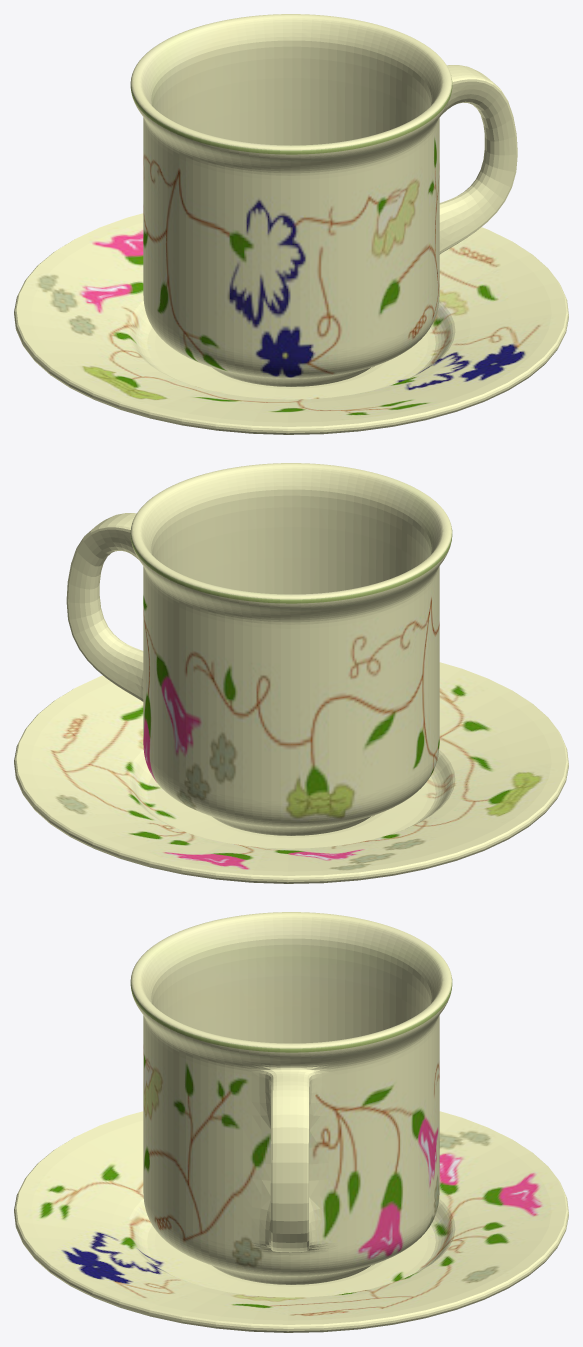
The model's file is sweethome3d-scopia-cup-111.glb.
3 views of the same model, one above another, from view 1: azimuth 30°, elevation 25°; view 2: azimuth 150°, elevation 25°; view 3: azimuth 270°, elevation 25° (orthographic).
Visible parts, largest first — view 1: cup_Plane, plate_Plane.001; view 2: cup_Plane, plate_Plane.001; view 3: cup_Plane, plate_Plane.001.
Part boxes in pixels (<box>): cup_Plane: <box>130,14,517,386</box>; plate_Plane.001: <box>14,213,568,434</box>; cup_Plane: <box>66,463,452,835</box>; plate_Plane.001: <box>14,662,568,883</box>; cup_Plane: <box>130,912,452,1284</box>; plate_Plane.001: <box>14,1111,568,1332</box>.
Bounding box in the file's own units: 11.98 × 6.78 × 11.98.
Materials: 2 (2 with a texture image).
